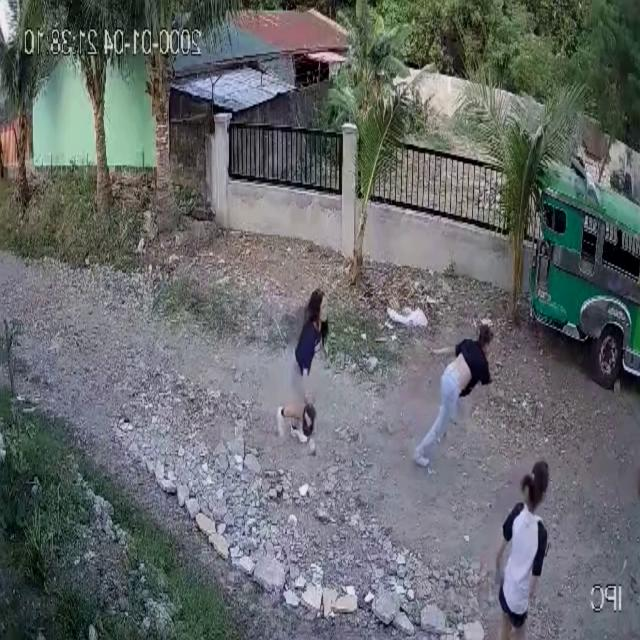running: (475, 455, 551, 640), (405, 315, 491, 475), (264, 275, 332, 449)
